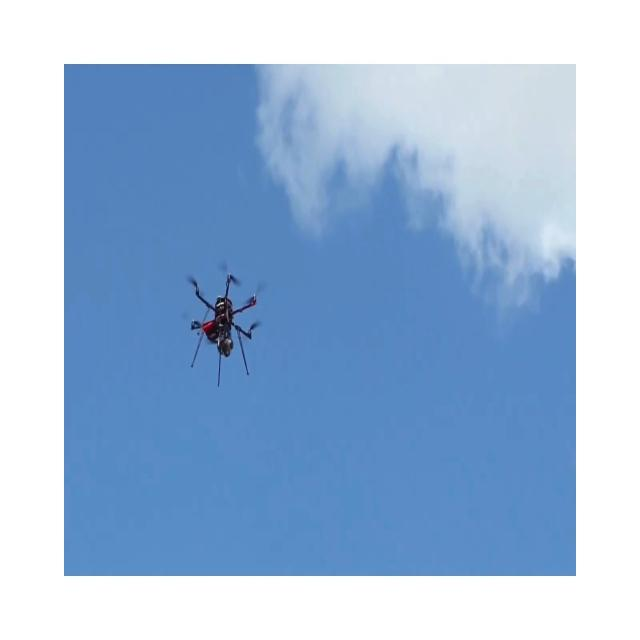drone: (187, 272, 260, 386)
